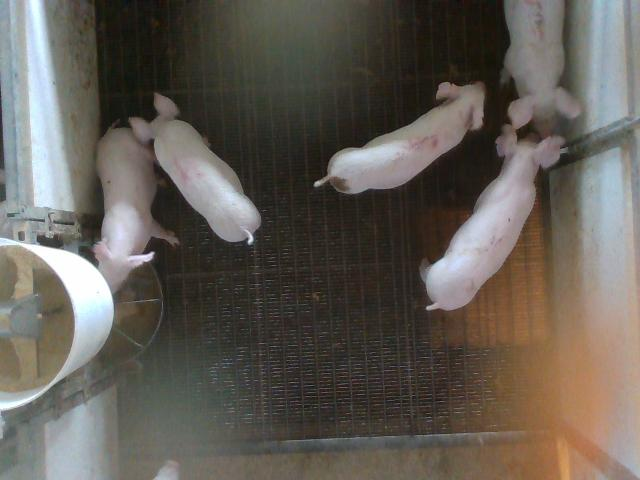pig-3: (501, 0, 581, 137)
pig-4: (131, 92, 261, 243)
pig-5: (314, 82, 485, 193)
